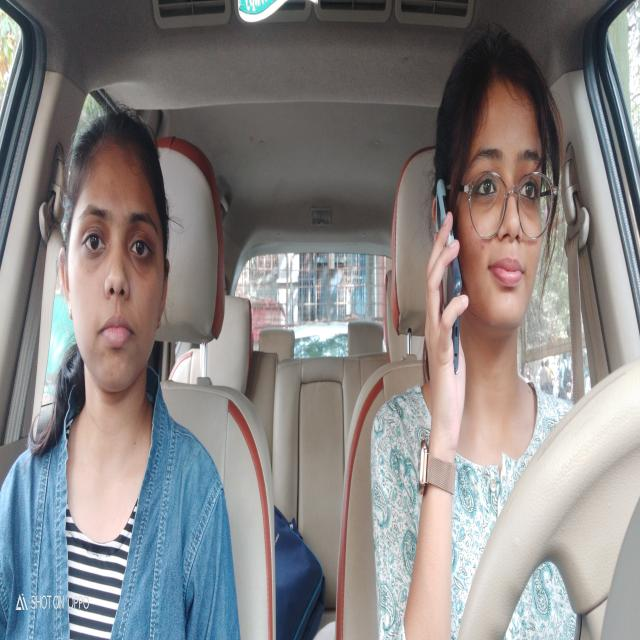mobile: (426, 178, 466, 374)
person: (437, 32, 558, 332), (59, 109, 171, 396)
